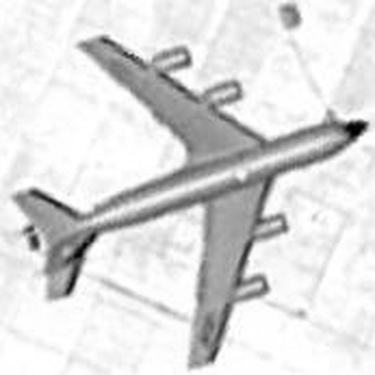airplane: (10, 26, 357, 370)
